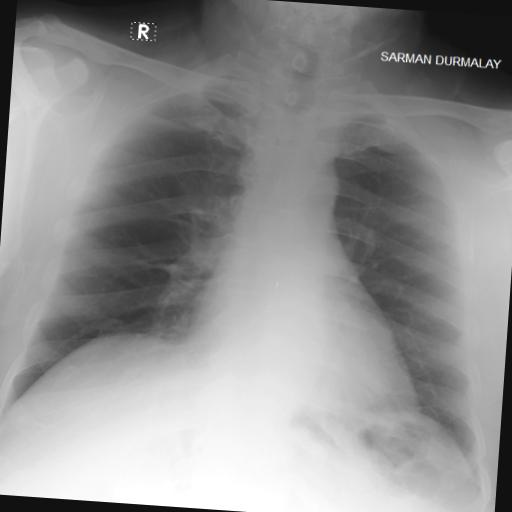kardiomegali: (0, 36, 512, 475)
